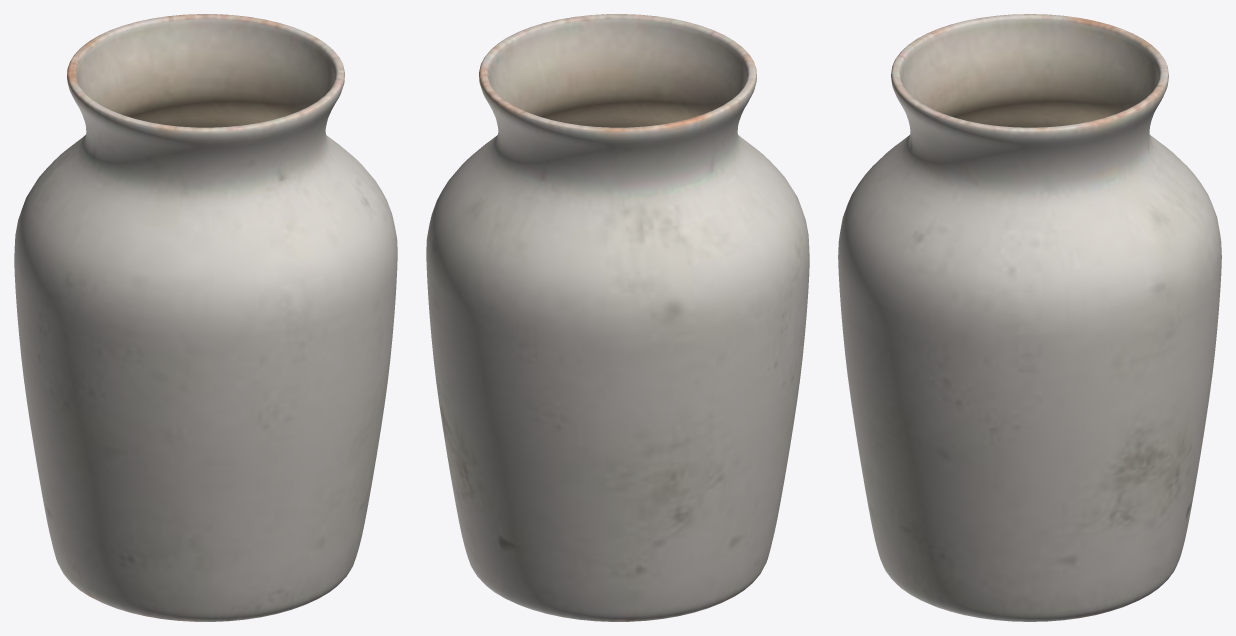
3 views of the same model, side by side, from view 1: azimuth 30°, elevation 25°; view 2: azimuth 150°, elevation 25°; view 3: azimuth 270°, elevation 25° (orthographic).
Parts seen in each view (by area): view 1: ceramic_vase_02; view 2: ceramic_vase_02; view 3: ceramic_vase_02.
Part boxes in pixels (left/top/right/bottom): ceramic_vase_02: left=14, top=14, right=397, bottom=621; ceramic_vase_02: left=426, top=14, right=809, bottom=621; ceramic_vase_02: left=838, top=14, right=1221, bottom=621.
Bounding box in the file's own units: 0.2184 × 0.3092 × 0.2184.
1 material, 1 textured.
